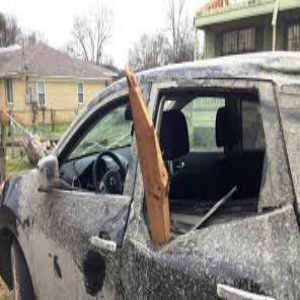door: (33, 213, 300, 284)
